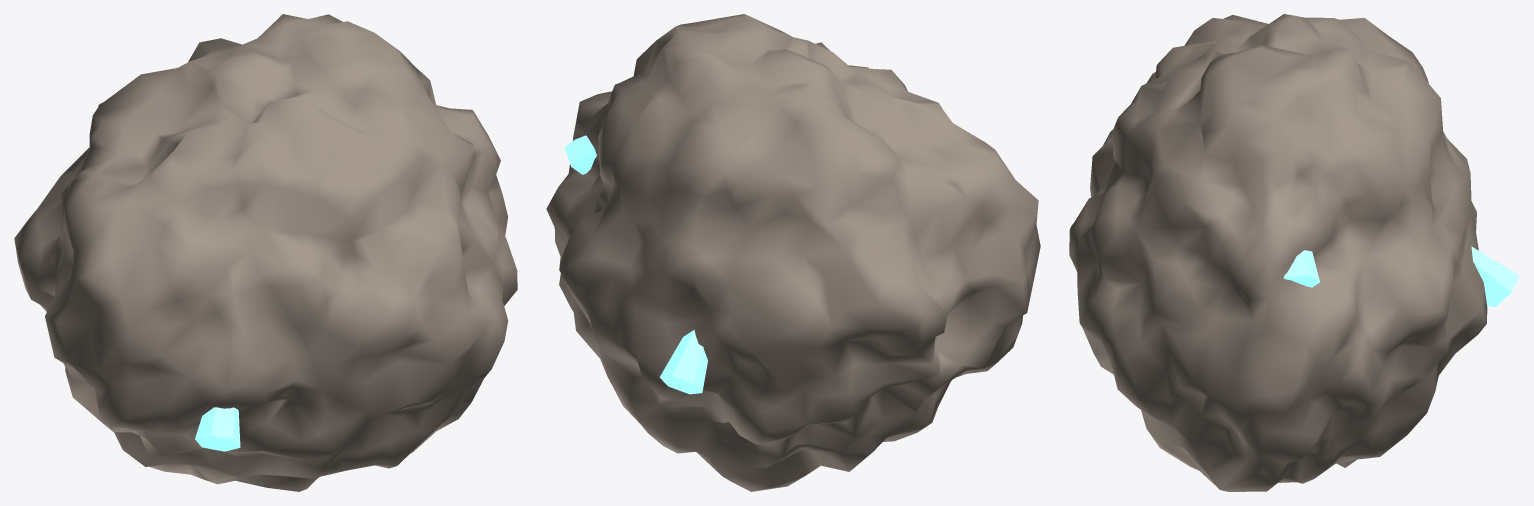
Rendered from asteroid3.fbx.
3 views of the same model, side by side, from view 1: azimuth 30°, elevation 25°; view 2: azimuth 150°, elevation 25°; view 3: azimuth 270°, elevation 25° (orthographic). The views are drawn at different scales.
Parts seen in each view (by area): view 1: Icosphere, cr; view 2: Icosphere, cr.002, cr.001; view 3: Icosphere, cr.002, cr.001.
Part boxes in pixels (left/top/right/bottom): Icosphere: left=14, top=14, right=517, bottom=491; cr: left=195, top=407, right=240, bottom=451; Icosphere: left=546, top=14, right=1040, bottom=491; cr.002: left=659, top=330, right=707, bottom=394; cr.001: left=564, top=135, right=596, bottom=174; Icosphere: left=1069, top=14, right=1487, bottom=491; cr.002: left=1471, top=246, right=1519, bottom=307; cr.001: left=1283, top=250, right=1319, bottom=287.
Size of the model in its own units: 276 by 246 by 229.
